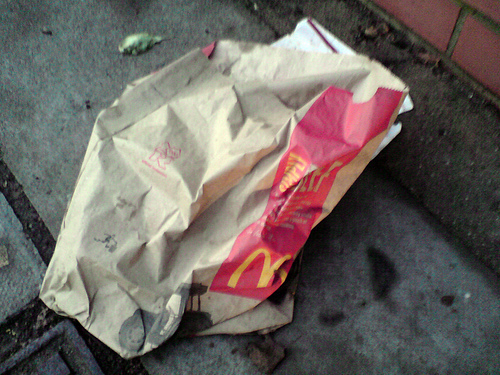litter: (35, 11, 411, 361)
